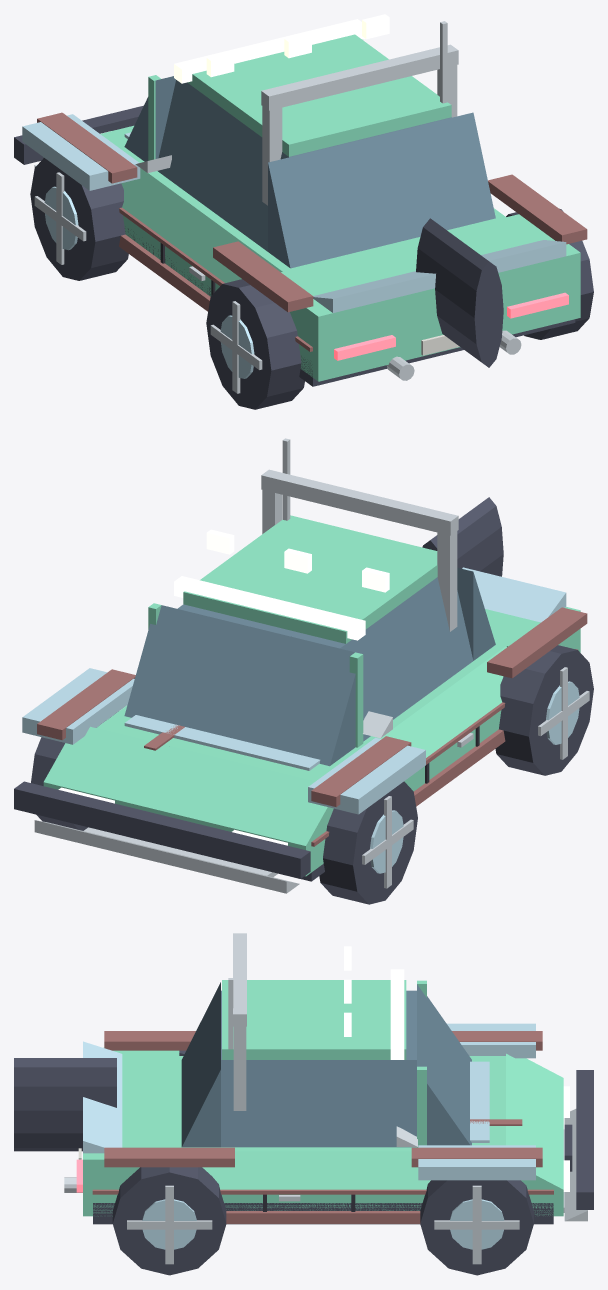
The model's file is switchback_six.glb.
The picture shows the model from 3 angles, top to bottom: view 1: azimuth 30°, elevation 25°; view 2: azimuth 150°, elevation 25°; view 3: azimuth 270°, elevation 25°; orthographic projection. The views are drawn at different scales.
Parts seen in each view (by area): view 1: RearWindow.171, Roof.271, Tail.071, CabinSideL.068, SpareTyre.022, Wheel_RL.231, Wheel_FL.231, Body.271, ShoulderL.068, RollBar.064, Ducktail.052, Fender-1.064 (+26 smaller); view 2: Windshield.171, Nose.068, Roof.271, CabinSideL.068, BashBar.064, Wheel_RL.231, Wheel_FL.231, ShoulderL.068, RollBar.064, BodyUpper.068, Bumper.267, Fender-1.064 (+24 smaller); view 3: CabinSideR.068, Roof.271, SpareTyre.022, ShoulderR.068, Wheel_RR.231, Tail.071, Wheel_FR.231, Windshield.171, Nose.068, RearWindow.171, Body.271, Fender1.064 (+24 smaller).
Part boxes in pixels (x1,y1,x2,y2): RearWindow.171: (268,112,495,268); Roof.271: (187,34,451,156); Tail.071: (281,214,580,351); CabinSideL.068: (158,80,288,251); SpareTyre.022: (416,218,503,367); Wheel_RL.231: (206,279,304,409); Wheel_FL.231: (30,158,128,280); Body.271: (43,157,580,381); ShoulderL.068: (121,168,282,282); RollBar.064: (261,44,458,110); Ducktail.052: (313,240,566,312); Fender-1.064: (22,114,140,190); Windshield.171: (124,605,355,766); Nose.068: (44,726,333,845); Roof.271: (183,515,437,643); CabinSideL.068: (340,577,473,741); BashBar.064: (14,781,310,878); Wheel_RL.231: (495,645,593,775); Wheel_FL.231: (319,781,417,904); ShoulderL.068: (380,646,506,757); RollBar.064: (261,469,458,535); BodyUpper.068: (96,643,505,781); Bumper.267: (34,820,299,893); Fender-1.064: (308,737,425,814); CabinSideR.068: (221,1060,416,1147); Roof.271: (222,980,406,1059); SpareTyre.022: (14,1058,116,1151); ShoulderR.068: (202,1151,430,1189); Wheel_RR.231: (112,1167,226,1275); Tail.071: (83,1047,179,1189); Wheel_FR.231: (420,1180,533,1275); Windshield.171: (417,984,471,1145); Nose.068: (506,1053,563,1189); RearWindow.171: (181,982,220,1147); Body.271: (83,1189,563,1216); Fender1.064: (418,1145,535,1180).
Bounding box in the file's own units: 3.46 × 2.94 × 5.92.
